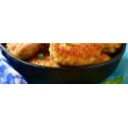cutlet: (51, 43, 102, 65), (6, 42, 44, 59)
